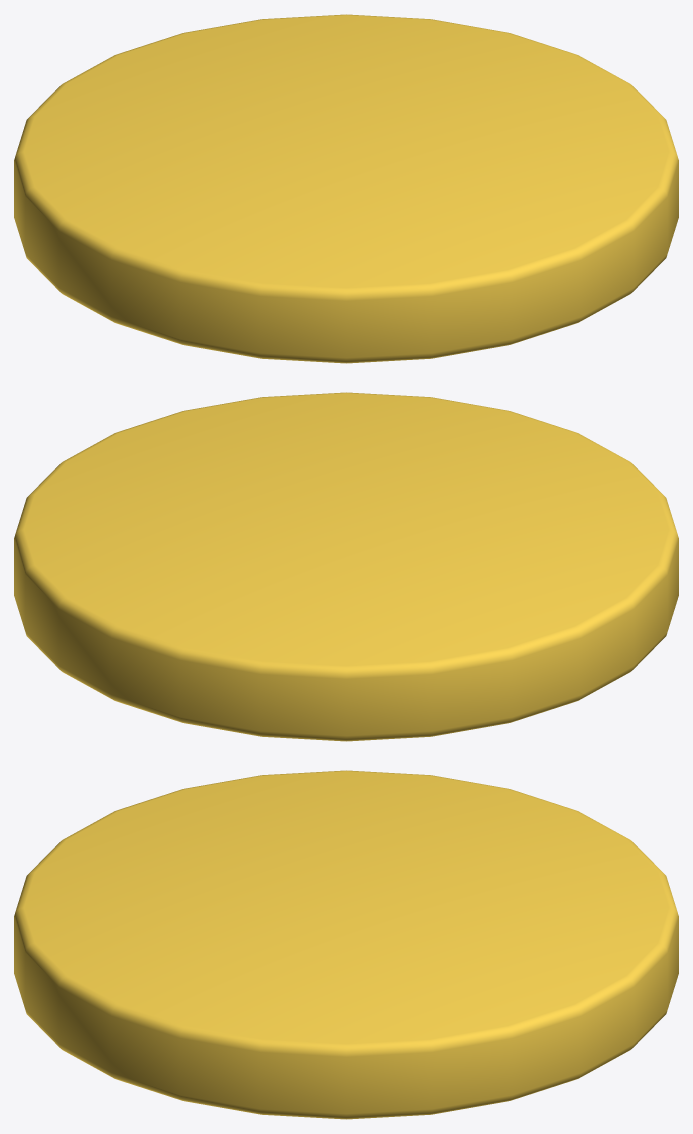
The model's file is ceiling-light-disc.glb.
3 views of the same model, one above another, from view 1: azimuth 30°, elevation 25°; view 2: azimuth 150°, elevation 25°; view 3: azimuth 270°, elevation 25° (orthographic).
Parts seen in each view (by area): view 1: shade; view 2: shade; view 3: shade.
Part boxes in pixels (x1,y1,x2,y2): shade: [14, 14, 678, 363]; shade: [14, 392, 678, 741]; shade: [14, 770, 678, 1119].
Size of the model in its own units: 0.8 by 0.1053 by 0.8.
